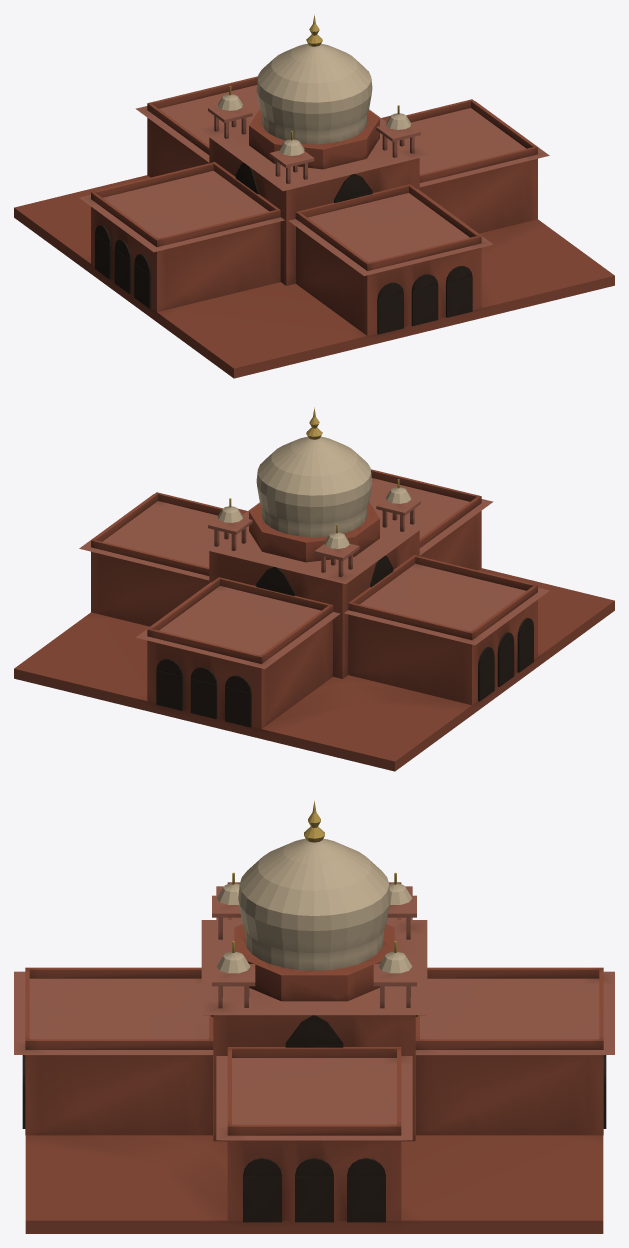
Rendered from ibadat-khana.glb.
The picture shows the model from 3 angles, top to bottom: view 1: azimuth 30°, elevation 25°; view 2: azimuth 150°, elevation 25°; view 3: azimuth 270°, elevation 25°; orthographic projection. The views are drawn at different scales.
Visible parts, largest first — view 1: p1_four halls, p0_plinth, p2_dome; view 2: p1_four halls, p0_plinth, p2_dome; view 3: p1_four halls, p0_plinth, p2_dome.
Part boxes in pixels (box(x1,y1,x2,y2)): p1_four halls: box(79, 76, 549, 335); p0_plinth: box(14, 115, 614, 378); p2_dome: box(197, 14, 430, 191); p1_four halls: box(79, 469, 549, 728); p0_plinth: box(14, 508, 614, 771); p2_dome: box(198, 407, 431, 584); p1_four halls: box(14, 882, 614, 1222); p0_plinth: box(25, 1055, 603, 1233); p2_dome: box(201, 800, 427, 1015).
Size of the model in its own units: 41.6 by 23.8 by 41.6.
